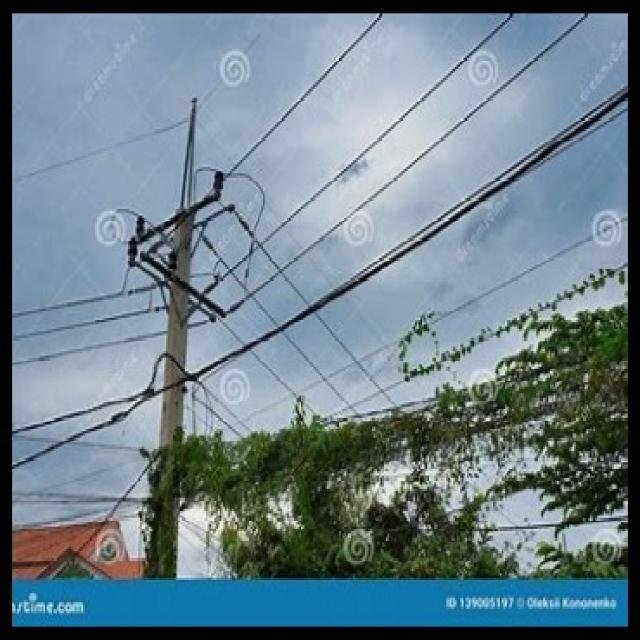critical vegetation: (172, 389, 630, 513)
